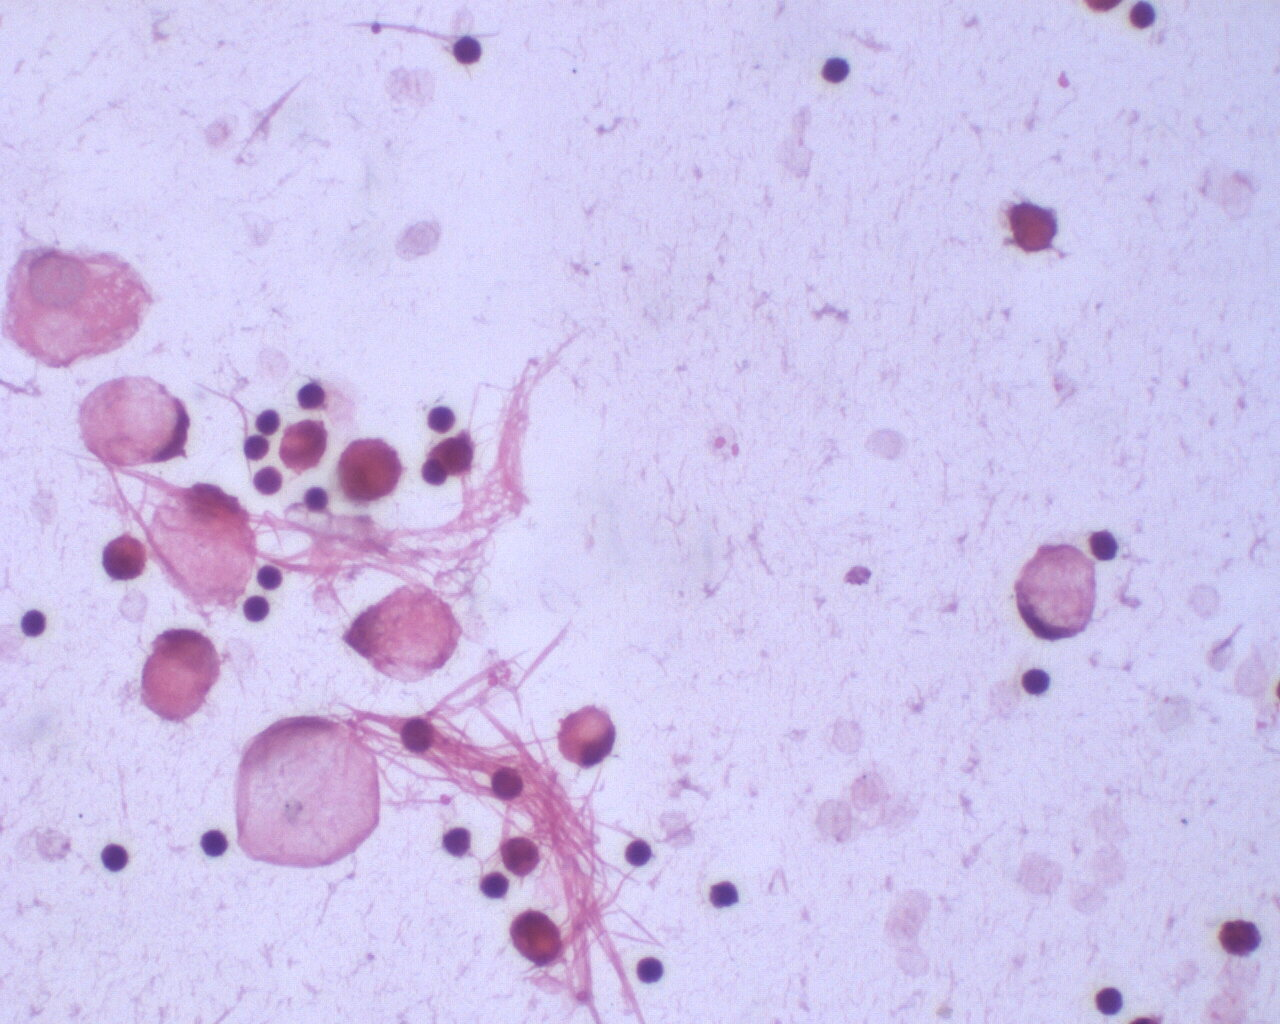histo: (229, 705, 383, 872), (78, 371, 191, 471), (1014, 539, 1097, 647), (554, 697, 624, 771)
lymph: (1017, 661, 1055, 705), (618, 831, 657, 872), (195, 821, 230, 868), (1088, 980, 1128, 1018), (96, 831, 130, 875), (630, 949, 667, 988), (816, 53, 857, 89), (239, 587, 276, 625), (18, 604, 52, 643), (418, 403, 459, 436), (449, 31, 483, 69)
